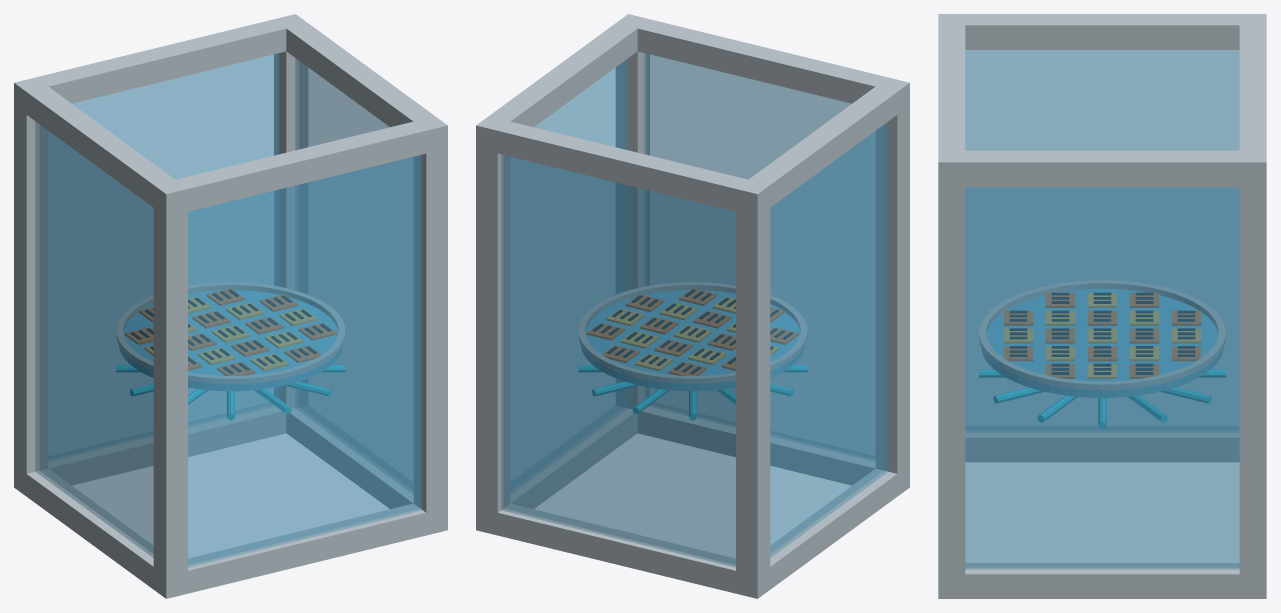
File: 50_L76_WaferSpinDryer.fbx
3 renders of one model, left to right at view 1: azimuth 30°, elevation 25°; view 2: azimuth 150°, elevation 25°; view 3: azimuth 270°, elevation 25°, orthographic. The views are drawn at different scales.
Visible parts, largest first — view 1: WaferSpinDryer, WaferSpinDryer_Part_0016, WaferSpinDryer_Part_0017; view 2: WaferSpinDryer, WaferSpinDryer_Part_0016, WaferSpinDryer_Part_0017; view 3: WaferSpinDryer, WaferSpinDryer_Part_0016, WaferSpinDryer_Part_0017.
Part boxes in pixels (x1,y1,x2,y2): WaferSpinDryer: [14, 14, 447, 598]; WaferSpinDryer_Part_0016: [119, 290, 342, 390]; WaferSpinDryer_Part_0017: [117, 282, 344, 383]; WaferSpinDryer: [476, 14, 909, 598]; WaferSpinDryer_Part_0016: [581, 290, 804, 390]; WaferSpinDryer_Part_0017: [579, 282, 806, 383]; WaferSpinDryer: [938, 14, 1266, 598]; WaferSpinDryer_Part_0016: [982, 289, 1222, 397]; WaferSpinDryer_Part_0017: [979, 280, 1225, 389].
Size of the model in its own units: 142 by 195 by 133.
